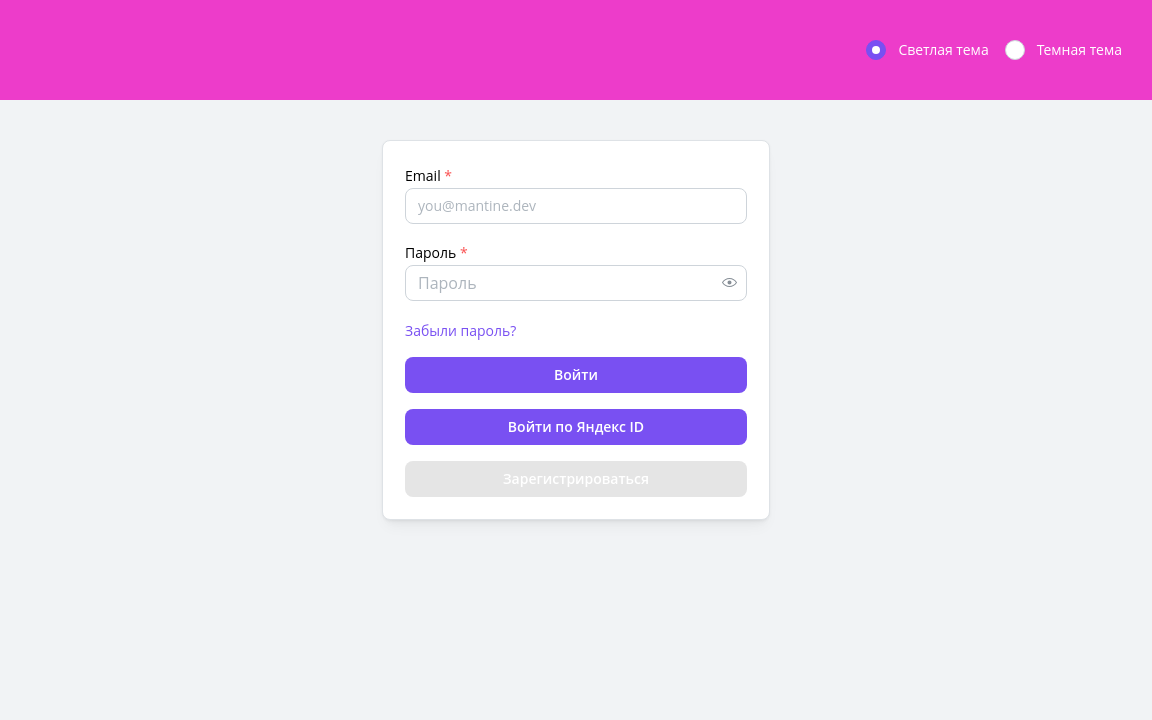
Test case: Авторизация пользователя › Пользователь вводит неправильный пароль и нажимает 'Войти'
This screenshot has width=1152, height=720.
In the field with test id "auth-email-input": (576, 206) [405,188,747,224], type "123@mail.ru"
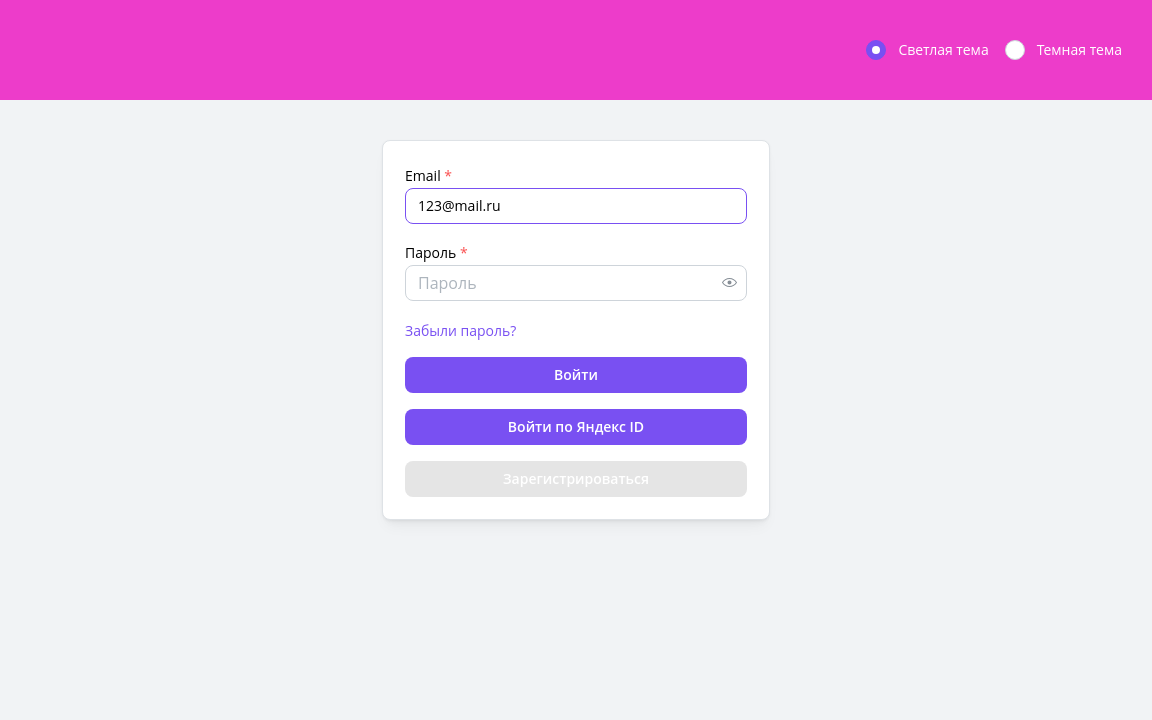
In the password field with test id "auth-password-input": (576, 283) [406,266,746,300], type "12345678"
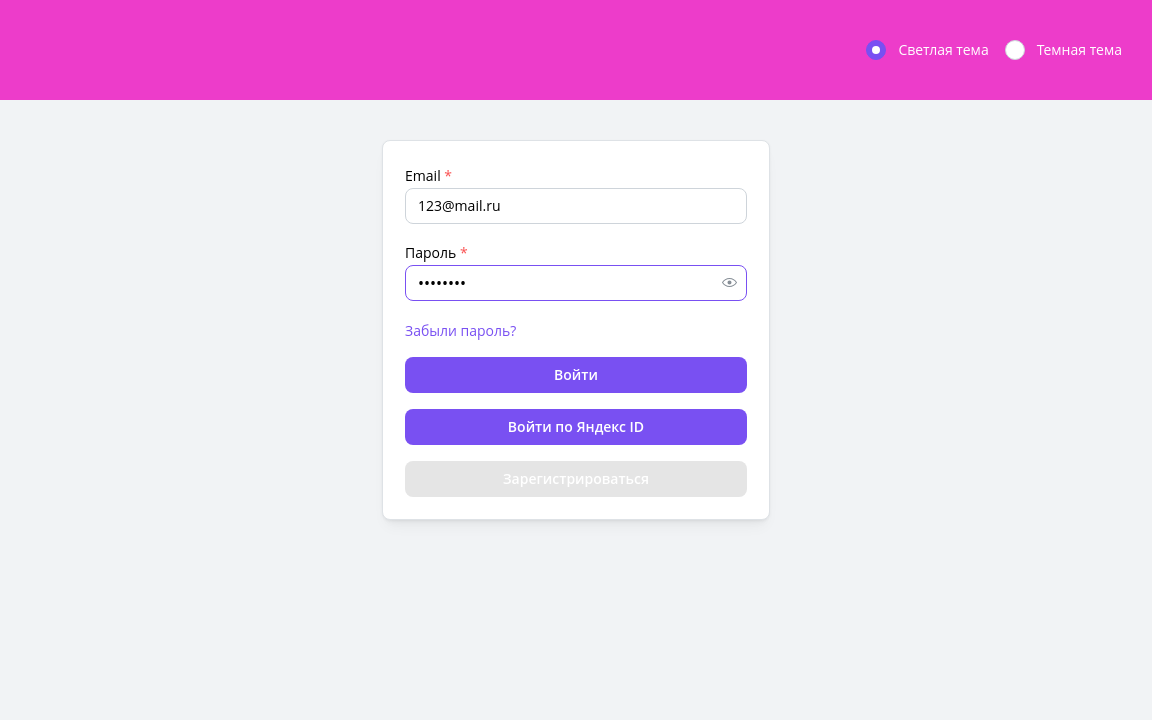
Click the button with test id "authorization-button": (576, 375) [405,357,747,393]
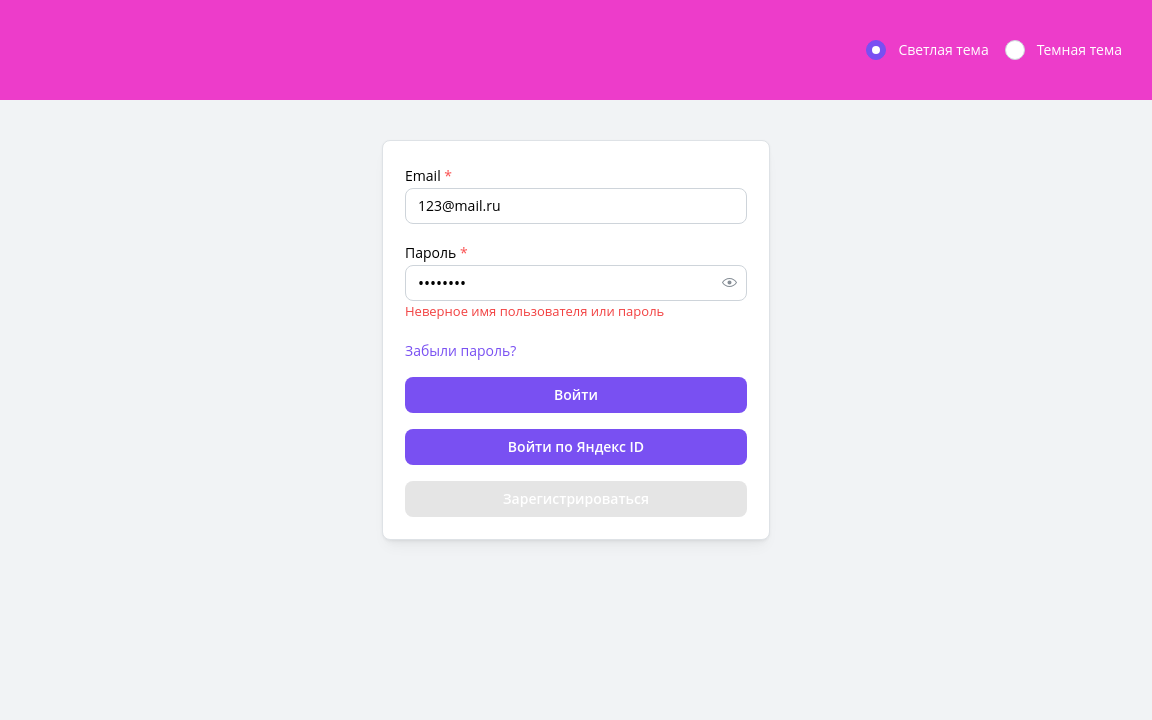
Result: the text "Неверное имя пользователя или пароль" is shown at [405,302,664,320]
